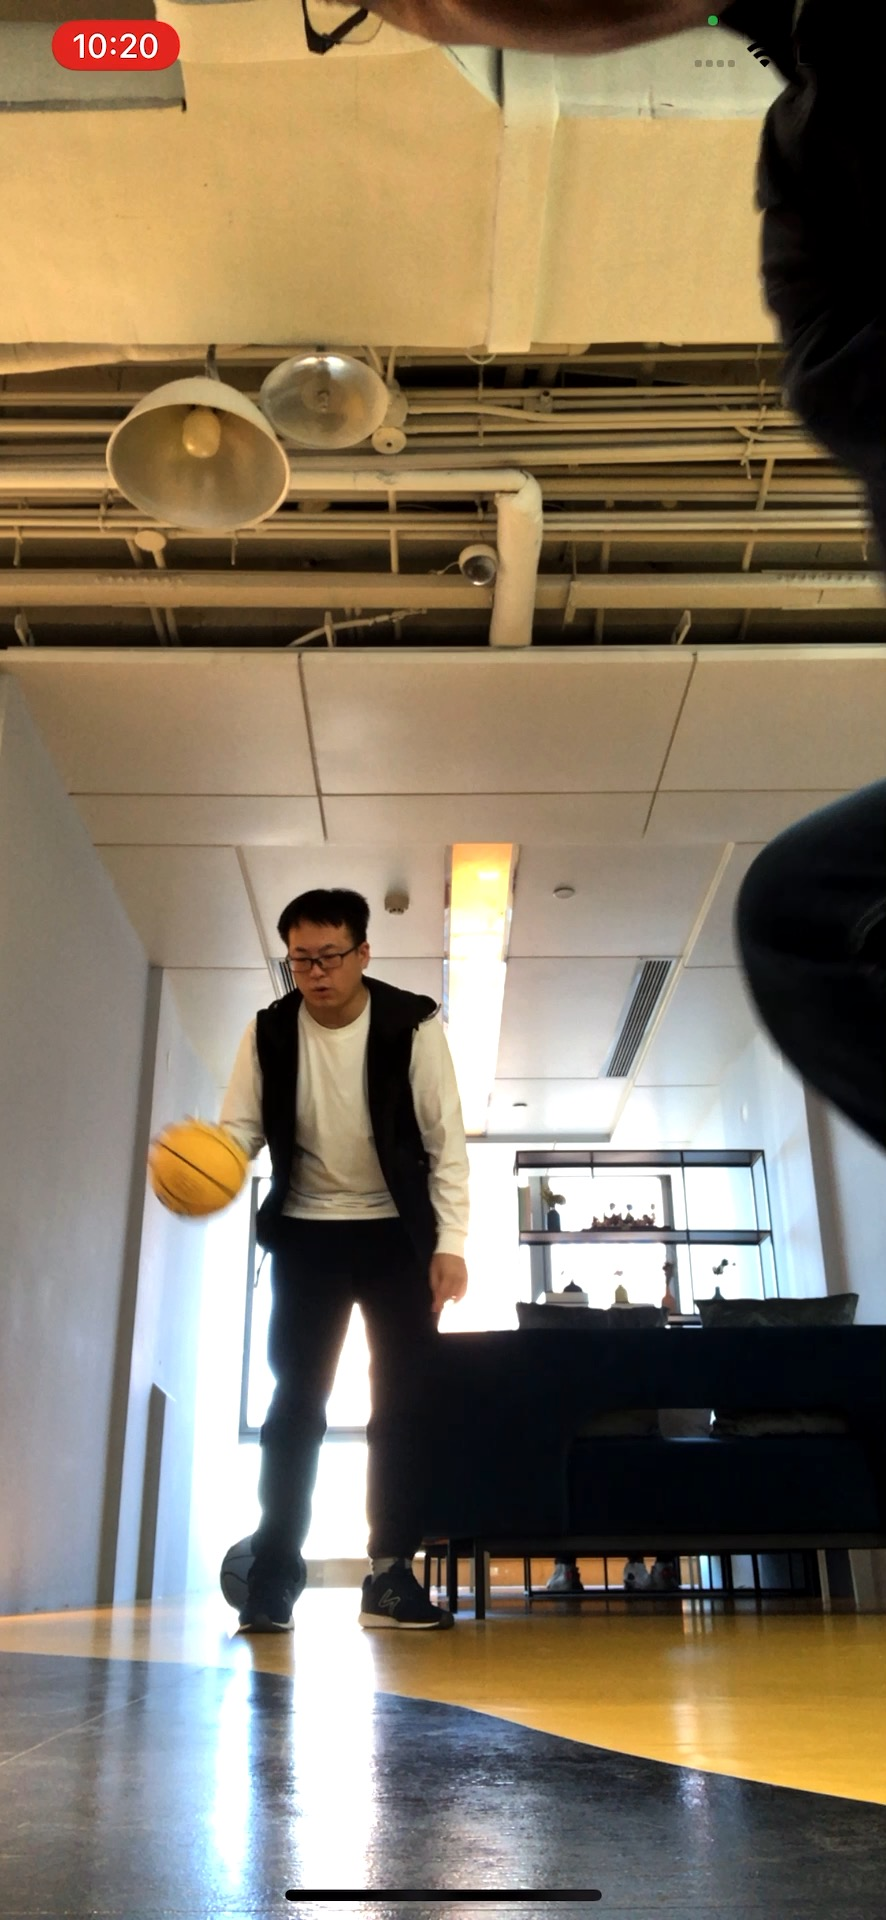ball: (151, 1123, 248, 1220)
